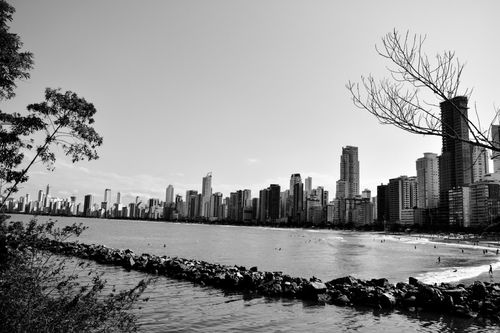buildings: (413, 88, 490, 242), (333, 137, 368, 226), (258, 181, 281, 226)
